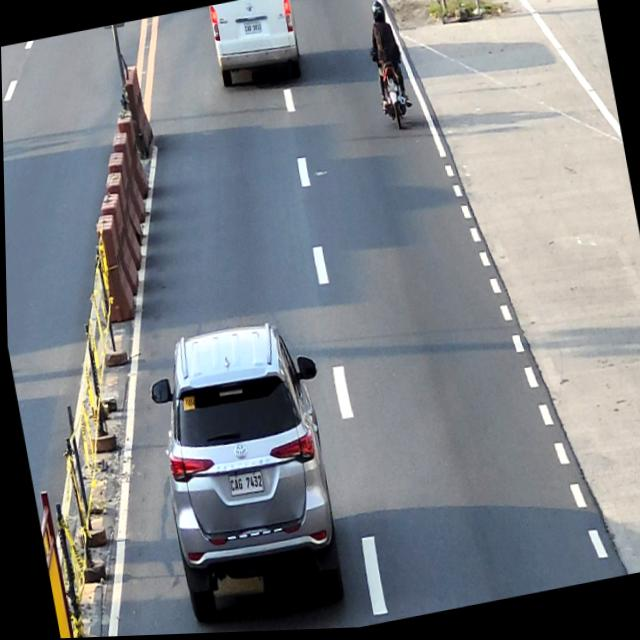Car: (139, 311, 356, 634), (208, 0, 305, 91)
License-Plate: (226, 472, 262, 499), (244, 23, 263, 37)
Motorcycle: (369, 43, 413, 133)
